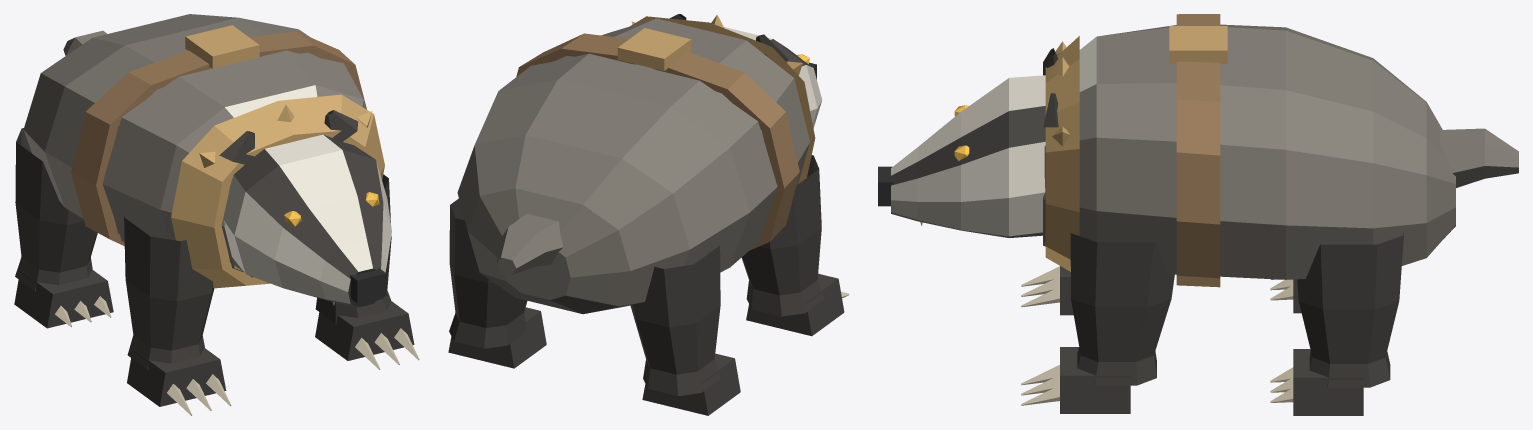
File: cr-badger.glb
The picture shows the model from 3 angles, left to right: view 1: azimuth 30°, elevation 25°; view 2: azimuth 150°, elevation 25°; view 3: azimuth 270°, elevation 25°; orthographic projection. The views are drawn at different scales.
Visible parts, largest first — view 1: body, head, collar, leg_fr, leg_hr, harness_strap, leg_fl, harness_plate, nose, claws_fr, claws_fl, ear_r (+2 smaller); view 2: body, leg_hr, leg_fr, leg_hl, harness_strap, tail, harness_plate, collar, head; view 3: body, head, leg_fl, leg_hl, harness_strap, collar, tail, harness_plate, claws_fl, claws_fr, claws_hl.
Part boxes in pixels (x1,y1,x2,y2): body: [23, 14, 366, 277]; head: [223, 134, 391, 307]; collar: [171, 94, 384, 288]; leg_fr: [124, 215, 226, 406]; leg_hr: [14, 128, 113, 328]; harness_strap: [71, 31, 366, 245]; leg_fl: [315, 174, 414, 360]; harness_plate: [185, 25, 259, 68]; nose: [349, 268, 386, 303]; claws_fr: [167, 374, 231, 415]; claws_fl: [355, 328, 419, 369]; ear_r: [219, 131, 254, 164]; body: [457, 18, 809, 314]; leg_hr: [630, 245, 740, 415]; leg_fr: [741, 155, 844, 336]; leg_hl: [448, 198, 546, 368]; harness_strap: [516, 33, 799, 250]; tail: [497, 213, 563, 274]; harness_plate: [617, 28, 691, 70]; collar: [630, 15, 815, 183]; head: [724, 27, 821, 128]; body: [1043, 24, 1455, 279]; head: [891, 75, 1045, 237]; leg_fl: [1060, 233, 1174, 413]; leg_hl: [1293, 231, 1403, 415]; harness_strap: [1176, 14, 1220, 287]; collar: [1045, 36, 1079, 271]; tail: [1440, 128, 1518, 187]; harness_plate: [1169, 26, 1227, 63]; claws_fl: [1021, 365, 1059, 405]; claws_fr: [1021, 266, 1059, 307]; claws_hl: [1270, 367, 1293, 402].
Size of what is drawn, in the model's own units: 0.7208 by 0.702 by 1.32.
